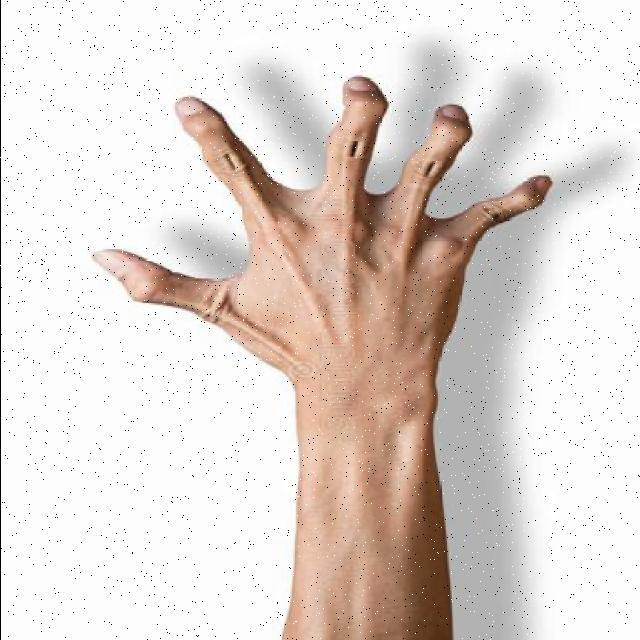no_apron: (76, 79, 548, 434)
